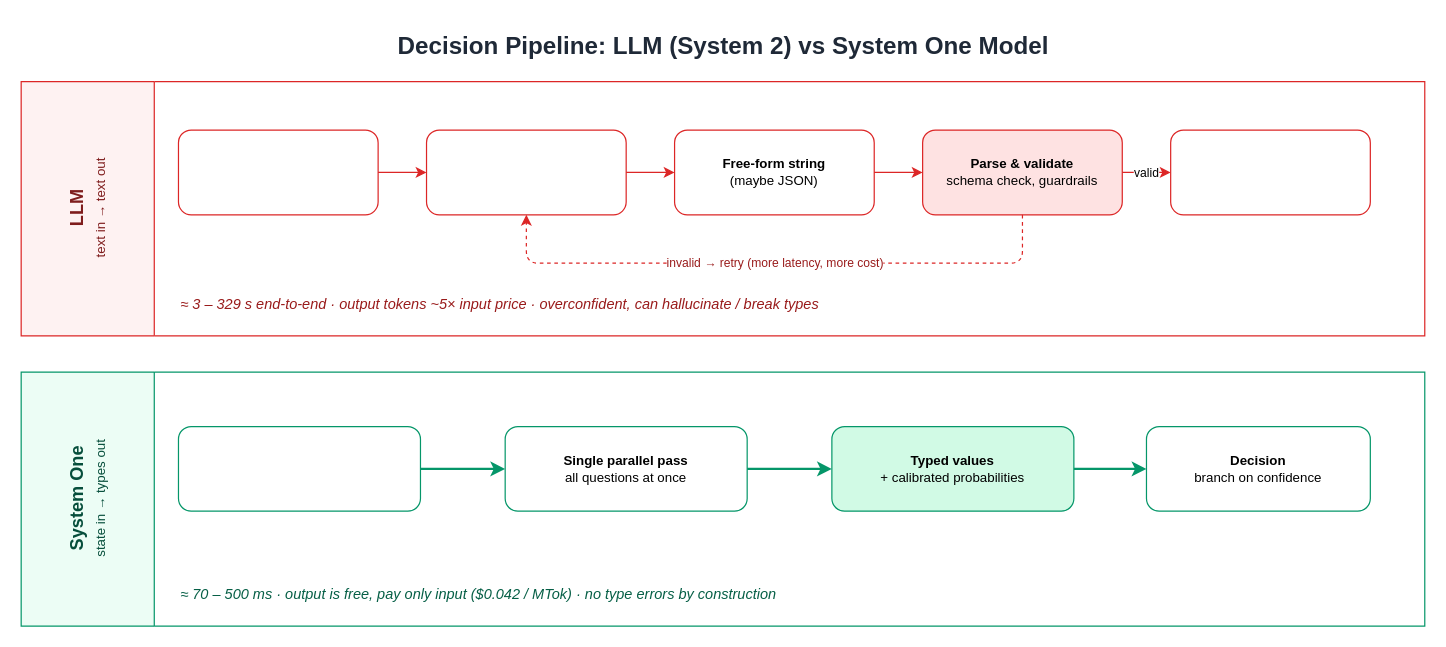
The diagram is 1446 pixels wide and 647 high, and some of its shapes have lost their labels. The centre of each missing label's shape, as x and y in pixels:
Decision: the point at 1269,172
Prompt instructions + context serialised as text: the point at 277,172
Sequential decoding one token at a time: the point at 525,172
Structured state + typed question schema: the point at 298,468
